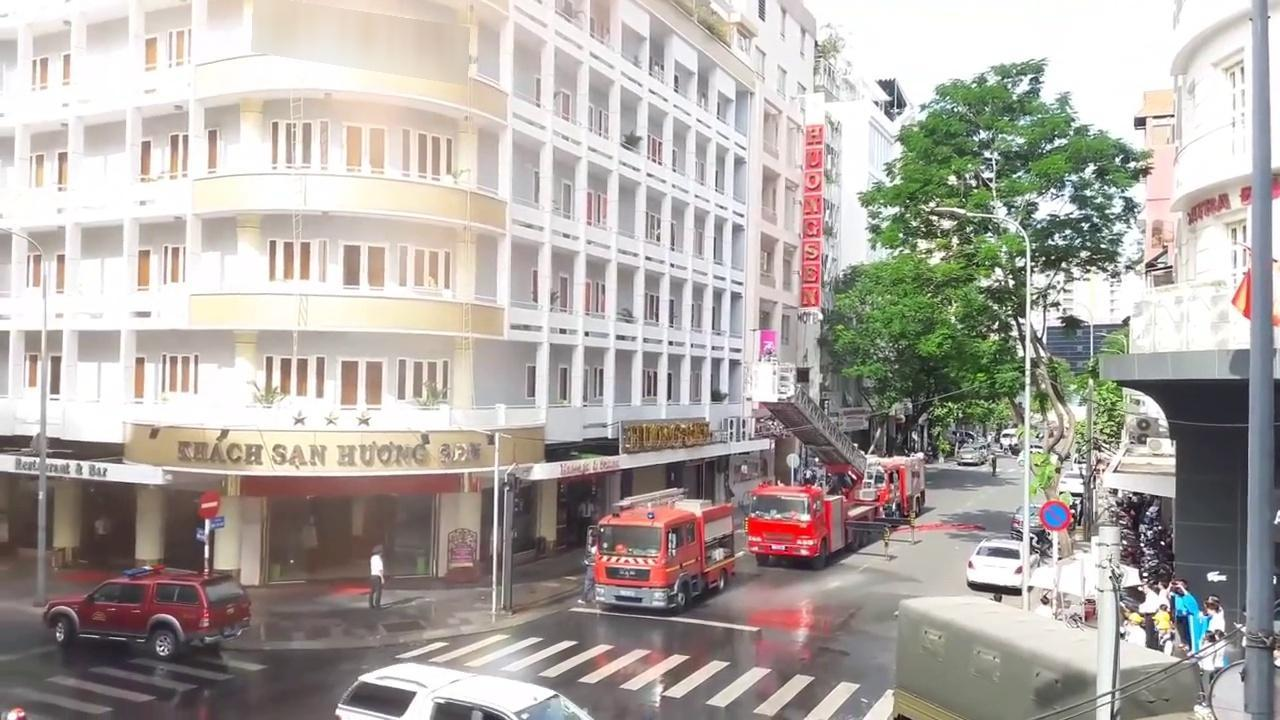xe cuu hoa: (587, 483, 737, 610), (749, 453, 875, 562), (854, 452, 923, 530)
xe hoi: (39, 570, 248, 661), (338, 662, 592, 720), (964, 536, 1036, 593), (1012, 502, 1047, 536)
xe tai: (893, 593, 1202, 720)
